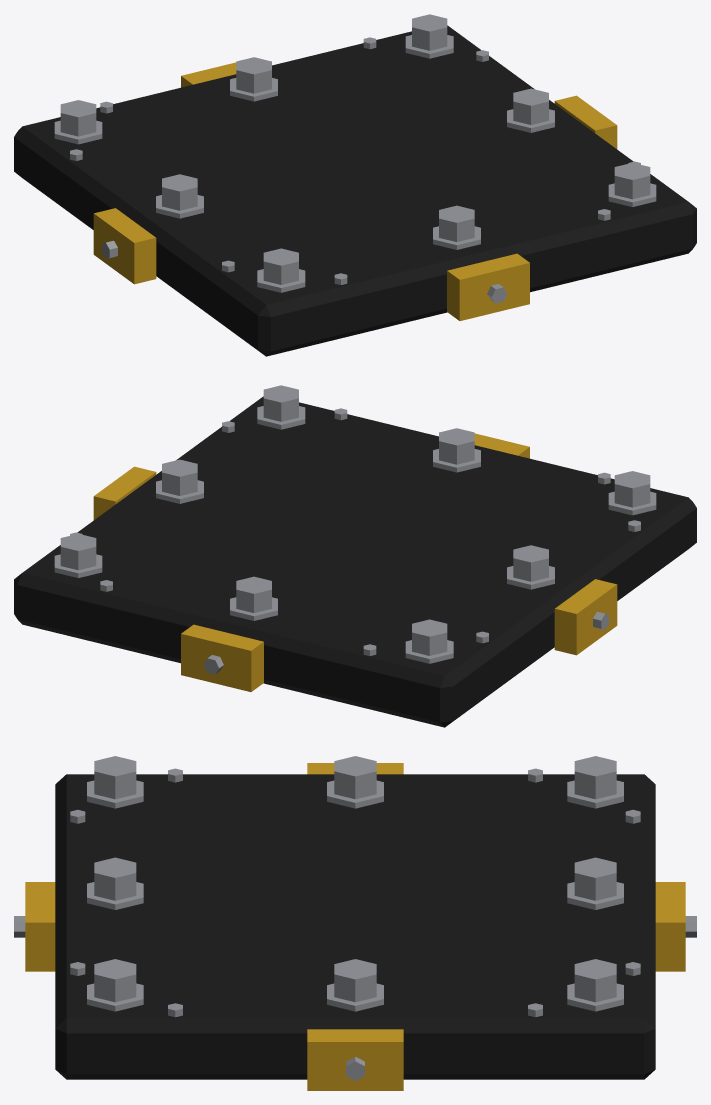
File: mk1_flange.obj
The picture shows the model from 3 angles, top to bottom: view 1: azimuth 30°, elevation 25°; view 2: azimuth 150°, elevation 25°; view 3: azimuth 270°, elevation 25°; orthographic projection. The views are drawn at different scales.
Parts seen in each view (by area): view 1: mk1_flange; view 2: mk1_flange; view 3: mk1_flange.
Boxes of the visible parts, <box> form: mk1_flange: <box>14,14,696,356</box>; mk1_flange: <box>14,385,696,727</box>; mk1_flange: <box>14,756,696,1090</box>.
Bounding box in the file's own units: 1.82 × 0.264 × 1.82.
